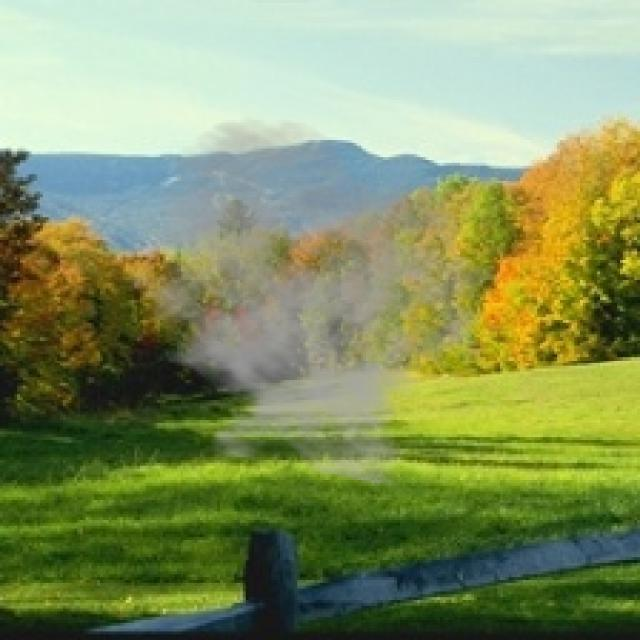Smoke: (106, 114, 503, 489)
